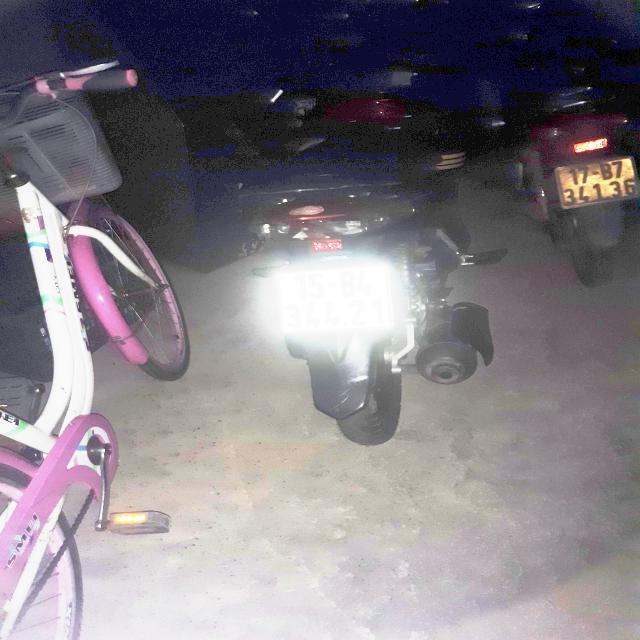license_plate: (264, 260, 407, 340), (552, 156, 640, 213)
